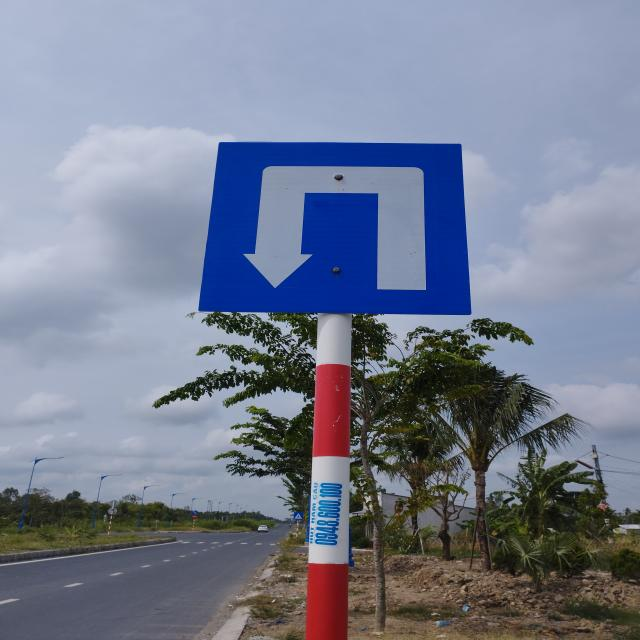Den_Giao_Thong: (199, 142, 473, 315)
